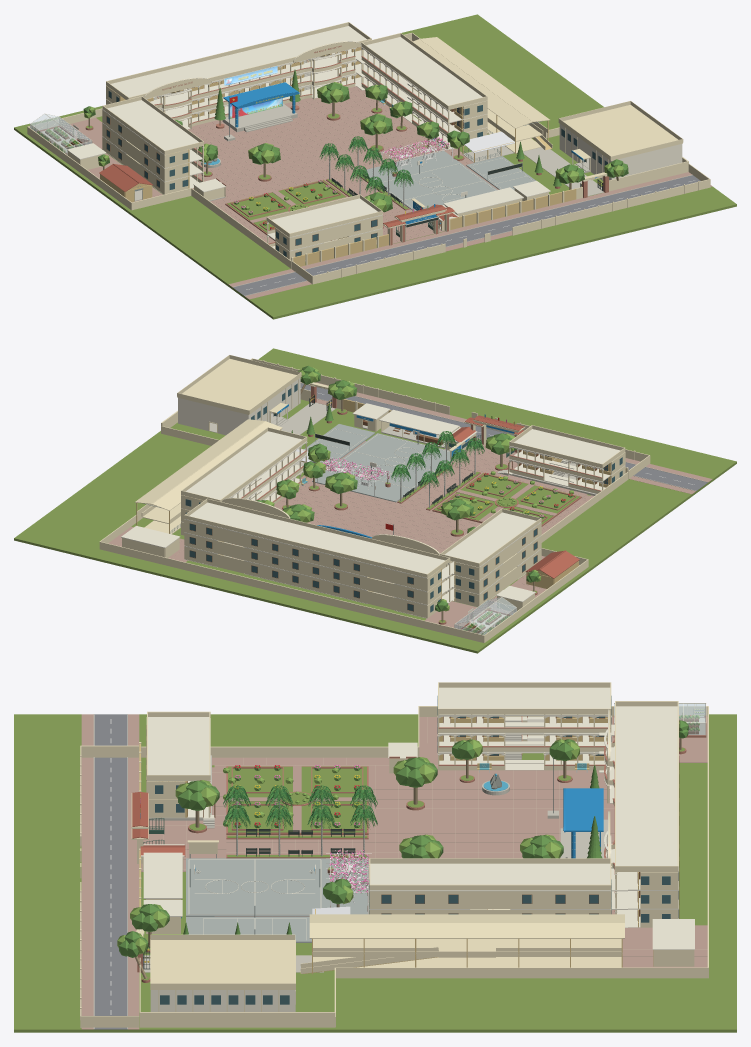
Rendered from an-duong-school.glb.
3 renders of one model, top to bottom at view 1: azimuth 30°, elevation 25°; view 2: azimuth 150°, elevation 25°; view 3: azimuth 270°, elevation 25°, orthographic. The views are drawn at different scales.
Visible parts, largest first — view 1: Campus_cream, Campus_grass, Campus_trim, Campus_tile, Campus_court, Campus_asphalt, Campus_wall, Campus_leaf, Campus_stone, Campus_brick, Campus_leaflight, Campus_window (+7 smaller); view 2: Campus_cream, Campus_grass, Campus_trim, Campus_tile, Campus_court, Campus_leaf, Campus_stone, Campus_leaflight, Campus_window, Campus_brick, Campus_asphalt, Campus_wood (+5 smaller); view 3: Campus_grass, Campus_cream, Campus_trim, Campus_tile, Campus_court, Campus_asphalt, Campus_leaf, Campus_brick, Campus_stone, Campus_leaflight, Campus_window, Campus_wall (+7 smaller).
Part boxes in pixels (left/top/right/bottom): Campus_cream: left=27, top=22, right=710, bottom=284; Campus_grass: left=14, top=14, right=736, bottom=319; Campus_trim: left=30, top=26, right=682, bottom=260; Campus_tile: left=61, top=40, right=712, bottom=299; Campus_court: left=365, top=150, right=535, bottom=211; Campus_asphalt: left=233, top=175, right=700, bottom=295; Campus_wall: left=100, top=47, right=576, bottom=266; Campus_leaf: left=37, top=69, right=628, bottom=229; Campus_stone: left=40, top=56, right=692, bottom=295; Campus_brick: left=35, top=45, right=608, bottom=245; Campus_leaflight: left=32, top=82, right=623, bottom=211; Campus_window: left=106, top=85, right=607, bottom=256; Campus_cream: left=99, top=355, right=650, bottom=642; Campus_grass: left=14, top=348, right=736, bottom=653; Campus_trim: left=121, top=378, right=624, bottom=634; Campus_tile: left=108, top=382, right=712, bottom=628; Campus_court: left=304, top=424, right=456, bottom=502; Campus_leaf: left=256, top=365, right=572, bottom=634; Campus_stone: left=210, top=382, right=707, bottom=634; Campus_leaflight: left=262, top=367, right=573, bottom=634; Campus_window: left=185, top=383, right=622, bottom=612; Campus_brick: left=232, top=386, right=601, bottom=629; Campus_asphalt: left=300, top=383, right=707, bottom=490; Campus_wood: left=190, top=420, right=610, bottom=633; Campus_grass: left=14, top=714, right=736, bottom=1032; Campus_cream: left=80, top=682, right=708, bottom=1027; Campus_trim: left=139, top=687, right=706, bottom=1011; Campus_tile: left=81, top=714, right=707, bottom=1029; Campus_court: left=186, top=858, right=368, bottom=942; Campus_asphalt: left=94, top=714, right=127, bottom=1029; Campus_leaf: left=119, top=715, right=698, bottom=957; Campus_brick: left=137, top=715, right=706, bottom=982; Campus_stone: left=93, top=714, right=705, bottom=1029; Campus_leaflight: left=117, top=709, right=704, bottom=954; Campus_window: left=155, top=696, right=678, bottom=1004; Campus_wall: left=139, top=716, right=653, bottom=974.
Bounding box in the file's own units: 130 × 14.36 × 126.
Materials: 47 (2 with a texture image).
